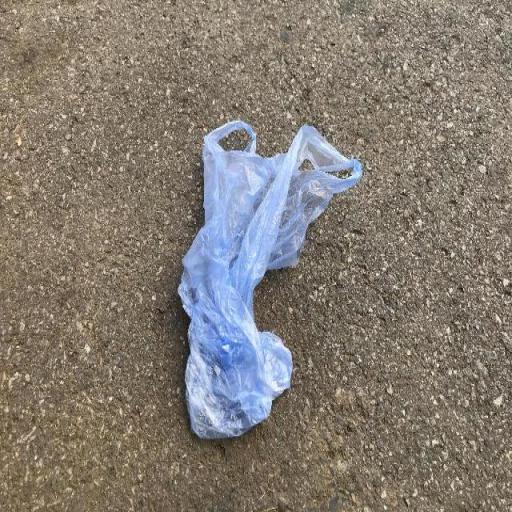plastic-bag: (180, 116, 370, 442)
